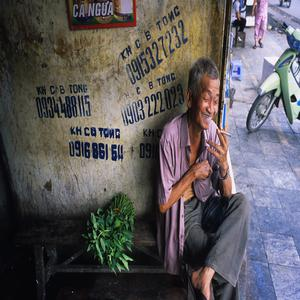cigarette: (221, 129, 234, 138)
